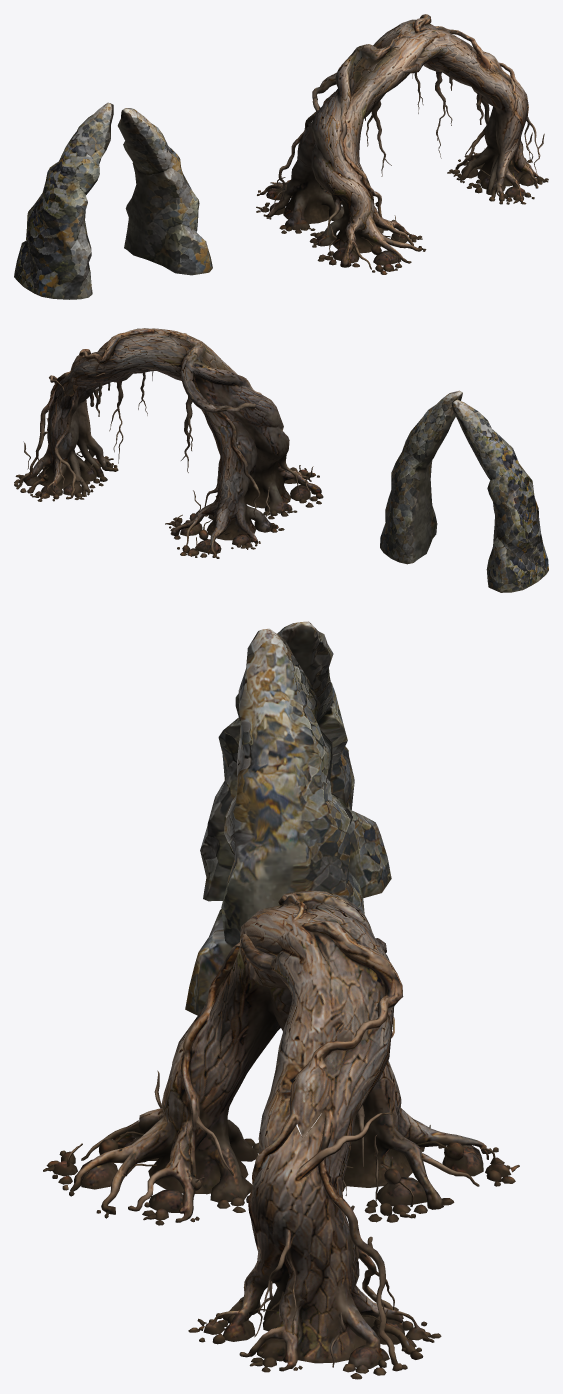
Rendered from act1_kit_v1_R23_leaning_stones_root_arch.glb.
The picture shows the model from 3 angles, top to bottom: view 1: azimuth 30°, elevation 25°; view 2: azimuth 150°, elevation 25°; view 3: azimuth 270°, elevation 25°; orthographic projection. The views are drawn at different scales.
Visible parts, largest first — view 1: tripo_94f04339_35e7_41d9_be3d_f65026b6df69; view 2: tripo_94f04339_35e7_41d9_be3d_f65026b6df69; view 3: tripo_94f04339_35e7_41d9_be3d_f65026b6df69.
Part boxes in pixels (bbox=[...]): tripo_94f04339_35e7_41d9_be3d_f65026b6df69: bbox=[14, 14, 548, 299]; tripo_94f04339_35e7_41d9_be3d_f65026b6df69: bbox=[14, 328, 548, 592]; tripo_94f04339_35e7_41d9_be3d_f65026b6df69: bbox=[43, 621, 519, 1379].
Bounding box in the file's own units: 0.9995 × 0.3237 × 0.4048.
Materials: 1 (1 with a texture image).
